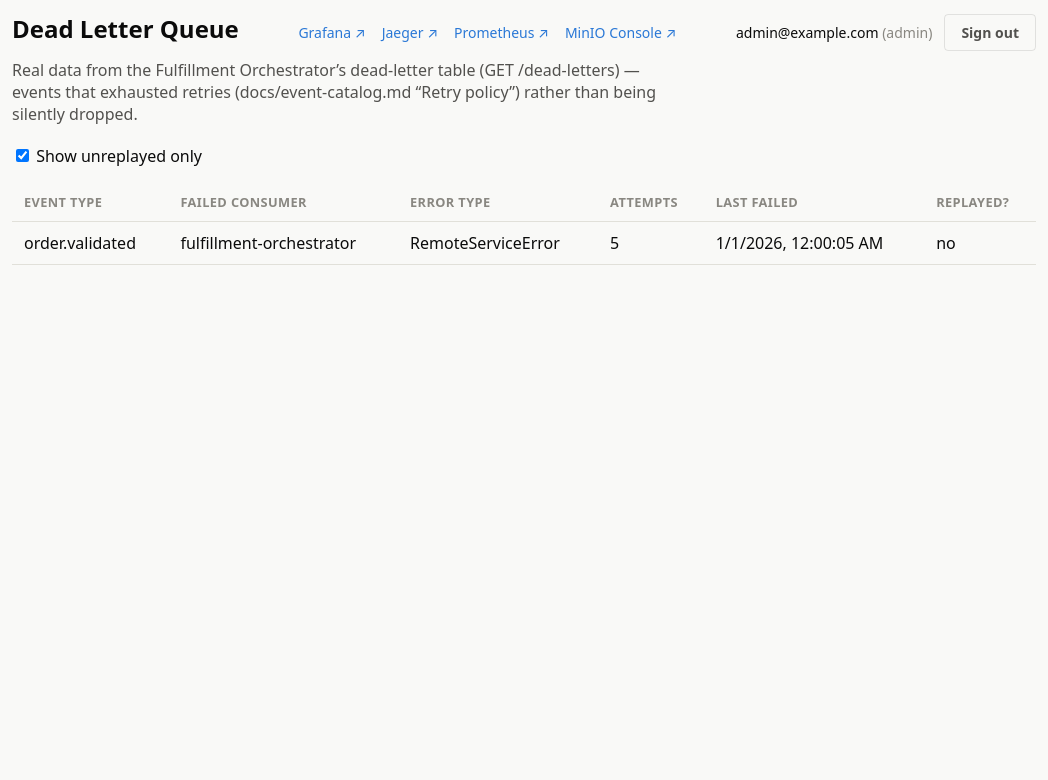
Test case: DeadLetterQueuePage › selecting a row shows a working Replay button for an unreplayed event
Step 1. Click the text "order.validated" → click(90, 243), box top-left (12, 222), bottom-right (168, 264)
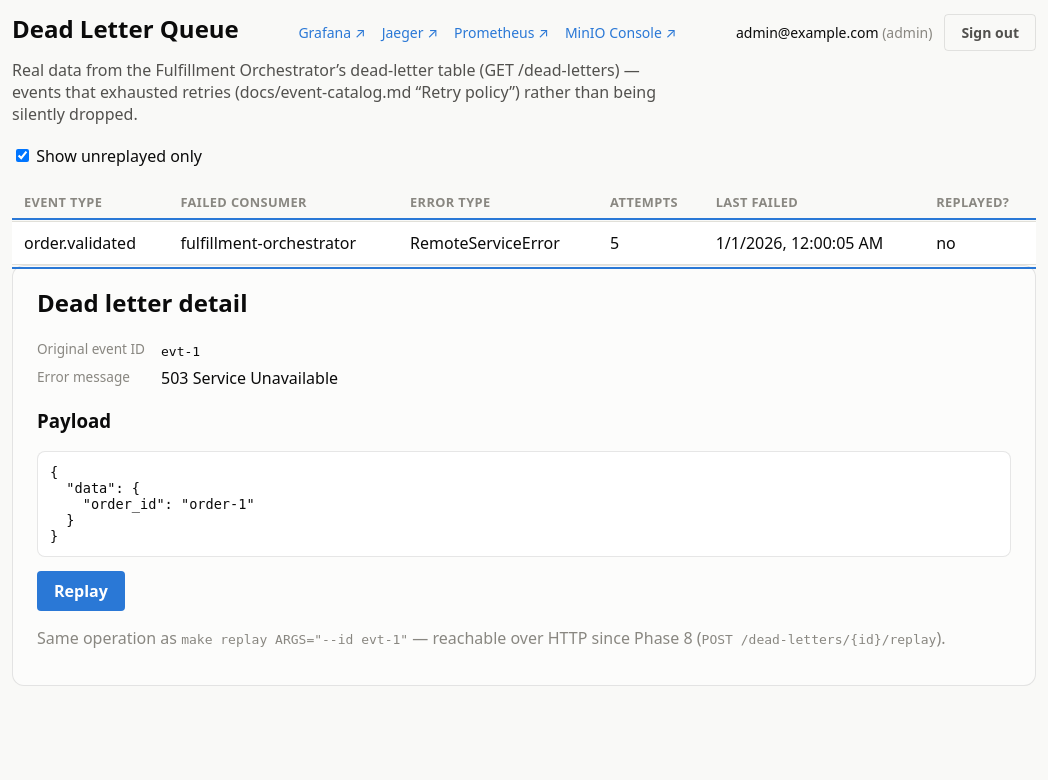
Step 2. Click the button "Replay" → click(81, 591), box top-left (37, 571), bottom-right (125, 611)
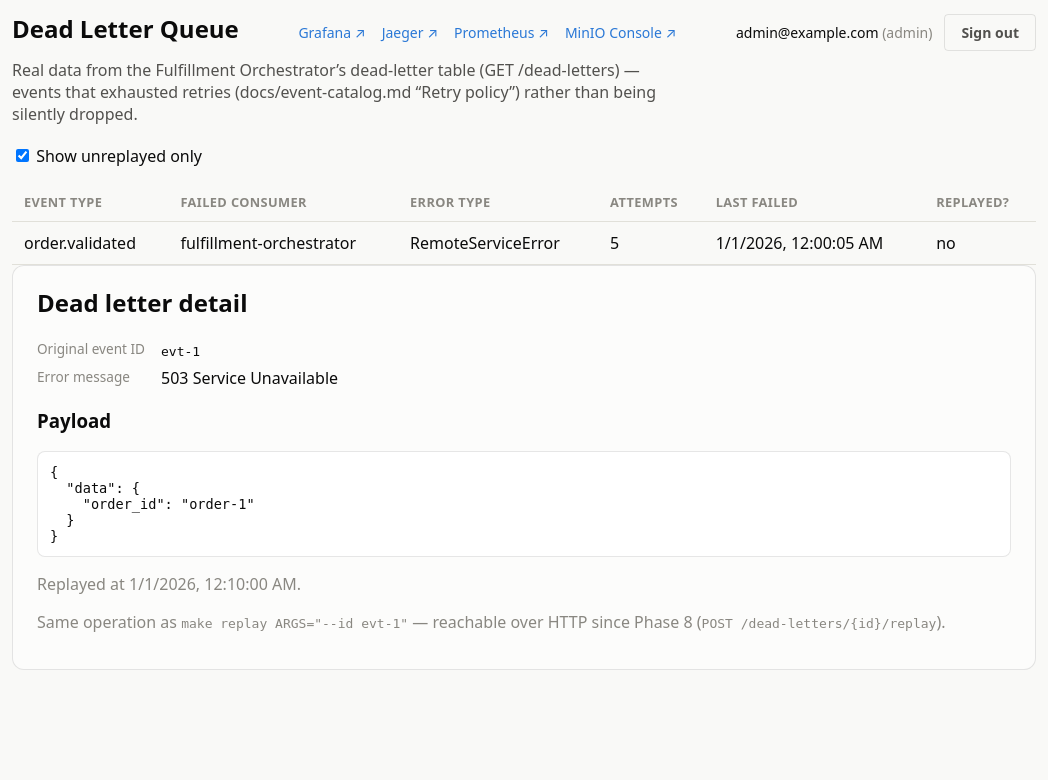
Expected: the text "Replayed at 1/1/2026, 12:10:00 AM." is shown, top-left (37, 573), bottom-right (301, 595)
